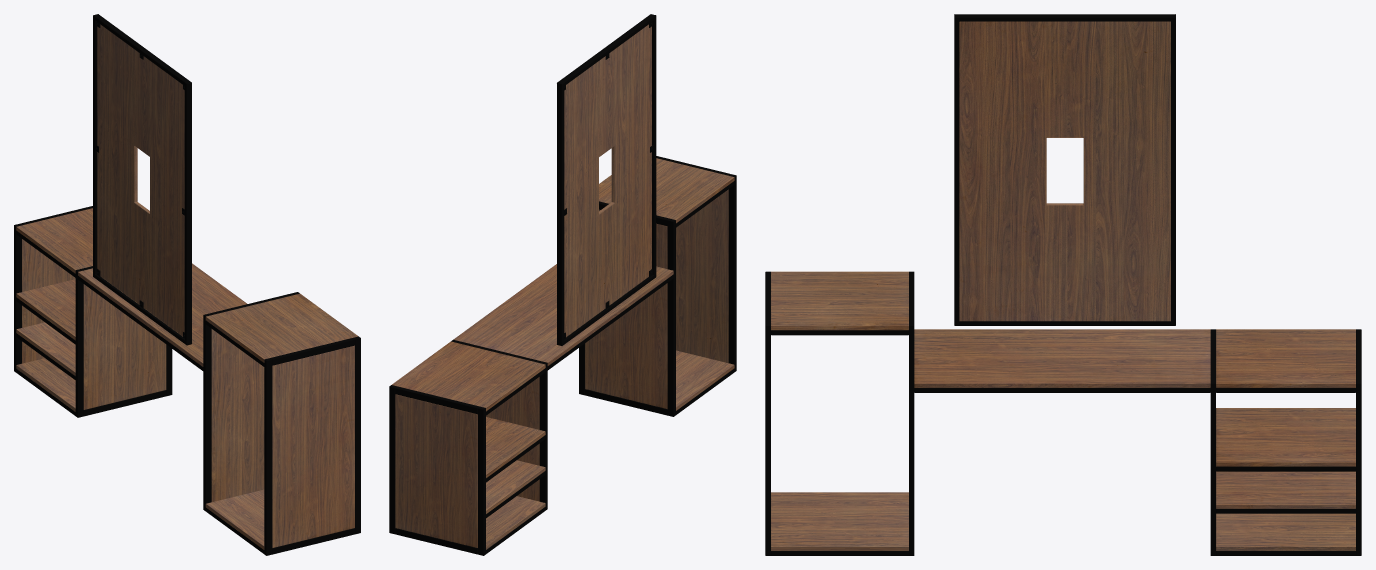
Rendered from JointUnit.glb.
3 renders of one model, left to right at view 1: azimuth 30°, elevation 25°; view 2: azimuth 150°, elevation 25°; view 3: azimuth 270°, elevation 25°, orthographic. The views are drawn at different scales.
Parts seen in each view (by area): view 1: wood, metal; view 2: wood, metal; view 3: wood, metal.
Boxes of the visible parts, x1,y1,x2,y2 form: wood: (16, 24, 358, 549); metal: (14, 14, 360, 555); wood: (392, 24, 734, 549); metal: (389, 14, 736, 555); wood: (771, 21, 1355, 550); metal: (765, 14, 1361, 555).
Size of the model in its own units: 0.4752 by 1.98 by 2.19.
2 materials, 1 textured.
